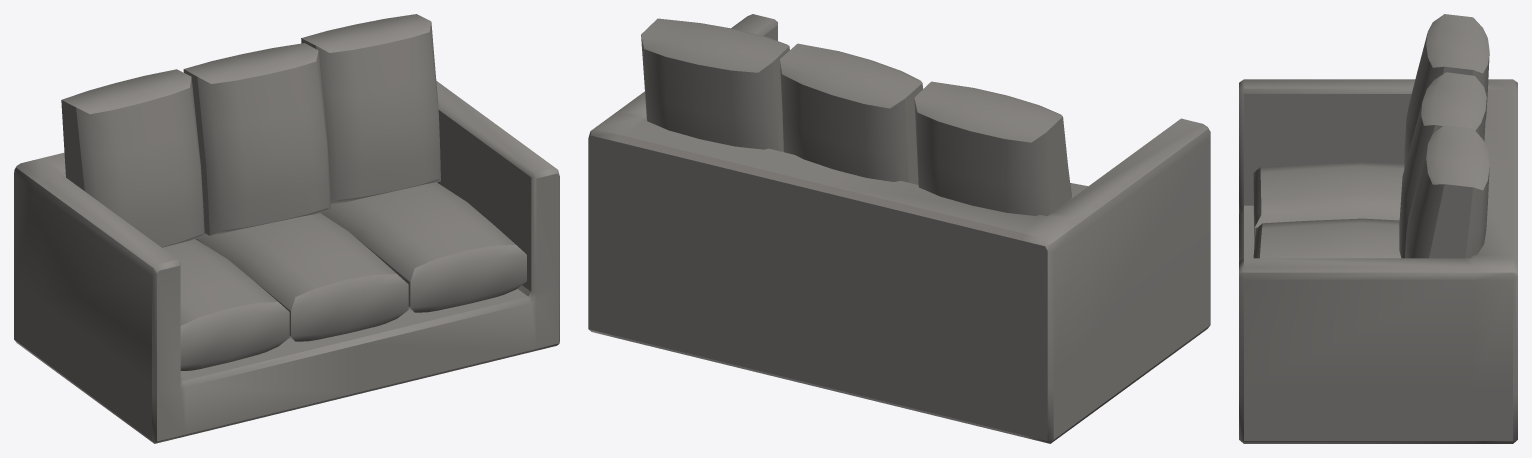
Rendered from pk_love_grey.glb.
3 views of the same model, side by side, from view 1: azimuth 30°, elevation 25°; view 2: azimuth 150°, elevation 25°; view 3: azimuth 270°, elevation 25° (orthographic). The views are drawn at different scales.
Parts seen in each view (by area): view 1: pk_love_grey; view 2: pk_love_grey; view 3: pk_love_grey.
Part boxes in pixels (x1,y1,x2,y2): pk_love_grey: [14, 14, 559, 443]; pk_love_grey: [588, 14, 1210, 443]; pk_love_grey: [1239, 14, 1517, 443].
Bounding box in the file's own units: 1.65 × 1 × 1.
1 material, 1 textured.
